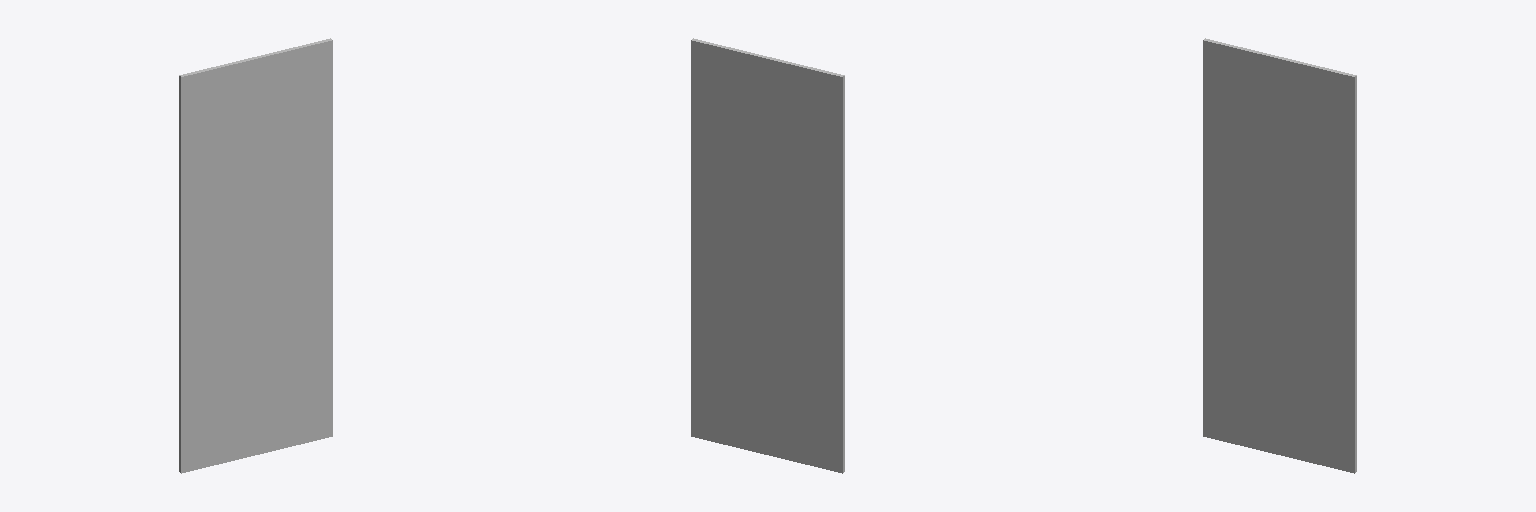
File: Glass_Panel.obj
The picture shows the model from 3 angles: view 1: azimuth 30°, elevation 25°; view 2: azimuth 150°, elevation 25°; view 3: azimuth 330°, elevation 25°; orthographic projection.
Visible parts, largest first — view 1: SketchUp; view 2: SketchUp; view 3: SketchUp.
Part boxes in pixels (x1,y1,x2,y2): SketchUp: (179, 38, 332, 473); SketchUp: (691, 38, 844, 473); SketchUp: (1203, 38, 1356, 473).
Bounding box in the file's own units: 0.9144 × 2.29 × 0.0254.